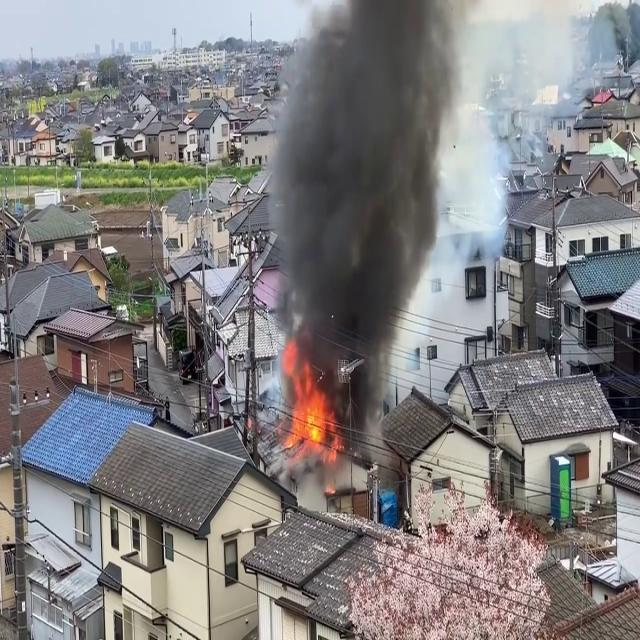Fire: (279, 349, 343, 463)
Smoke: (256, 0, 464, 408)
